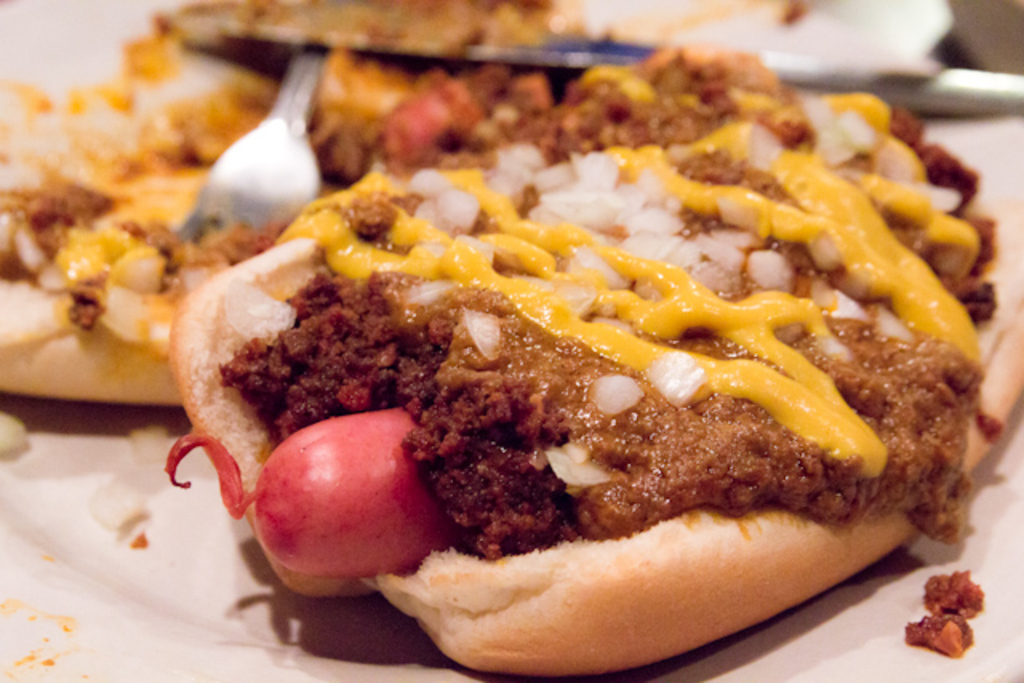Hamburger: (0, 0, 1022, 681)
